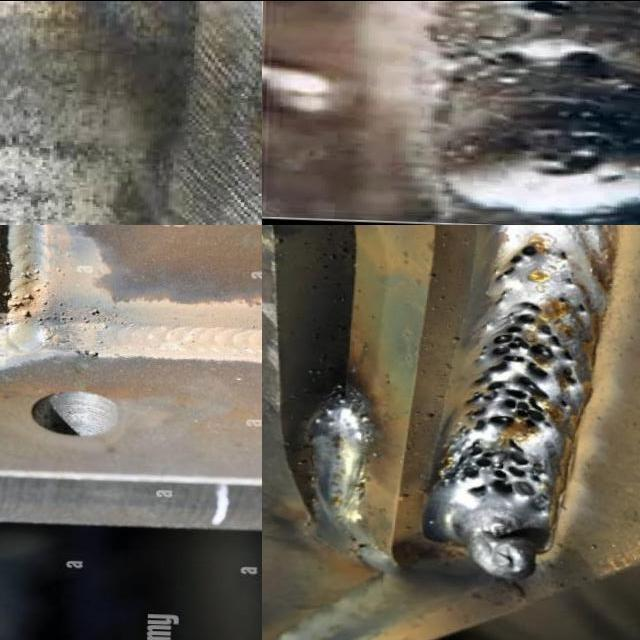defect: (459, 303, 581, 435), (440, 434, 548, 504), (521, 125, 637, 190), (429, 45, 540, 90), (484, 235, 545, 285), (8, 267, 49, 325), (495, 0, 577, 21), (554, 45, 612, 68), (37, 300, 74, 326), (488, 291, 511, 311), (554, 247, 575, 266), (575, 299, 591, 313), (84, 304, 101, 315), (84, 349, 100, 358), (563, 273, 575, 285), (553, 294, 567, 304), (97, 321, 109, 330), (80, 315, 90, 324)
